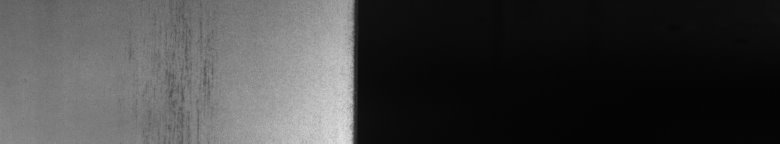ka: (164, 46, 213, 136)
